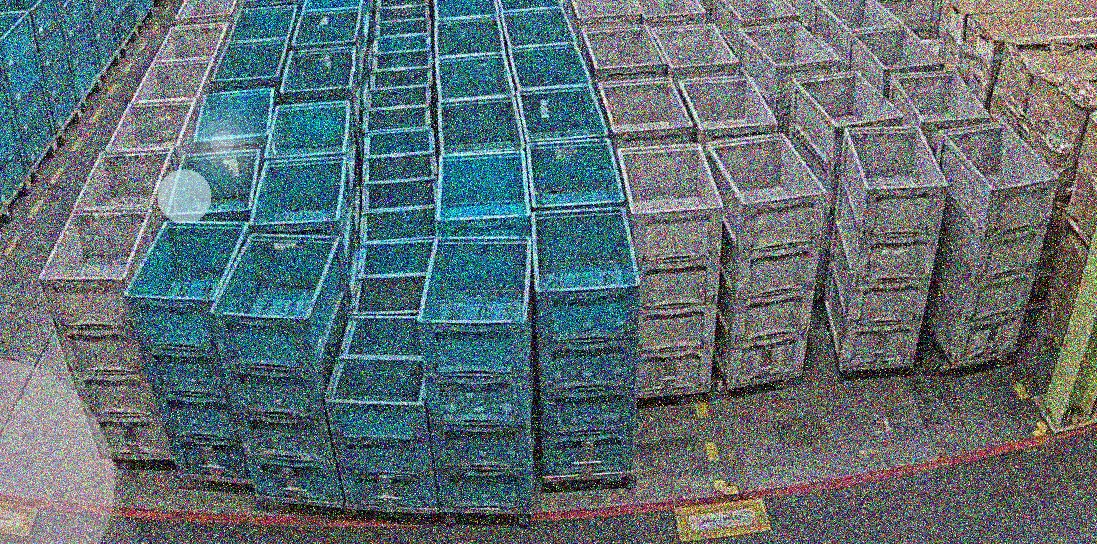4G: (38, 207, 174, 461), (925, 121, 1059, 364), (706, 133, 827, 389), (824, 126, 949, 371), (617, 143, 724, 399)
B4: (213, 226, 344, 503), (123, 220, 251, 479), (417, 236, 532, 511), (531, 207, 641, 476)
B8: (324, 315, 438, 508)
